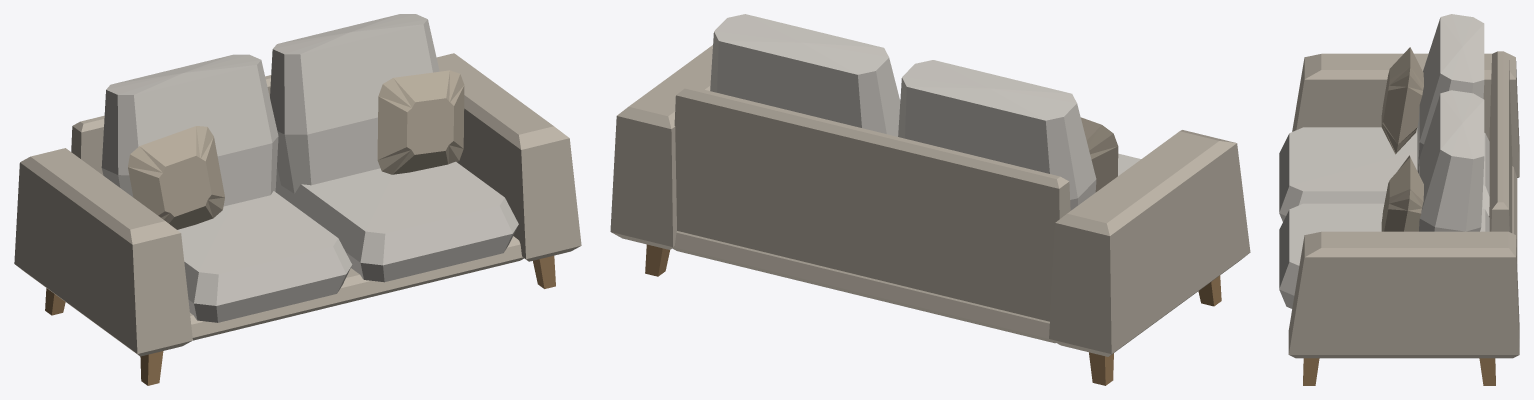
File: sofa-9c0e7e.glb
3 renders of one model, left to right at view 1: azimuth 30°, elevation 25°; view 2: azimuth 150°, elevation 25°; view 3: azimuth 270°, elevation 25°, orthographic. The views are drawn at different scales.
Parts seen in each view (by area): view 1: sofa-body, scatter-r-mesh, scatter-l-mesh; view 2: sofa-body, scatter-l-mesh; view 3: sofa-body, scatter-l-mesh, scatter-r-mesh.
Part boxes in pixels (<box>): sofa-body: <box>14,14,581,385</box>; scatter-r-mesh: <box>377,70,464,174</box>; scatter-l-mesh: <box>128,126,224,229</box>; sofa-body: <box>610,14,1250,385</box>; scatter-l-mesh: <box>1081,117,1118,192</box>; sofa-body: <box>1279,14,1519,385</box>; scatter-l-mesh: <box>1381,47,1423,154</box>; scatter-r-mesh: <box>1381,155,1423,231</box>.
Size of the model in its own units: 2 by 0.9591 by 1.
